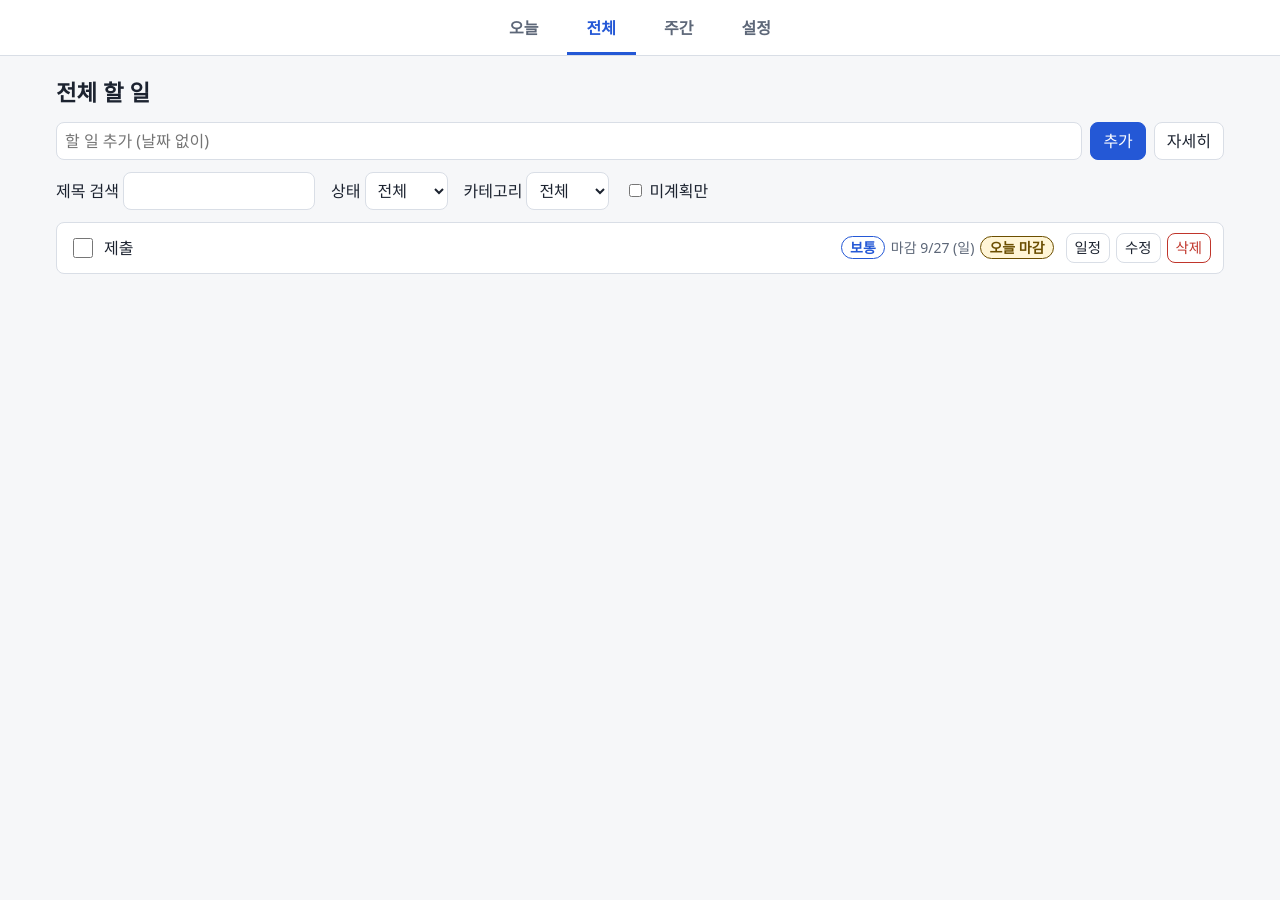
Test: 할 일 폼 › 수정 폼에서 마감일을 해제하면 마감 배지가 사라지고 null로 PATCH한다 (AC27)
Expected: the text "오늘 마감" is shown, left=980, top=236, right=1054, bottom=259
Click the button with aria-label "제출 수정" at (1138, 248), box left=1116, top=233, right=1160, bottom=263
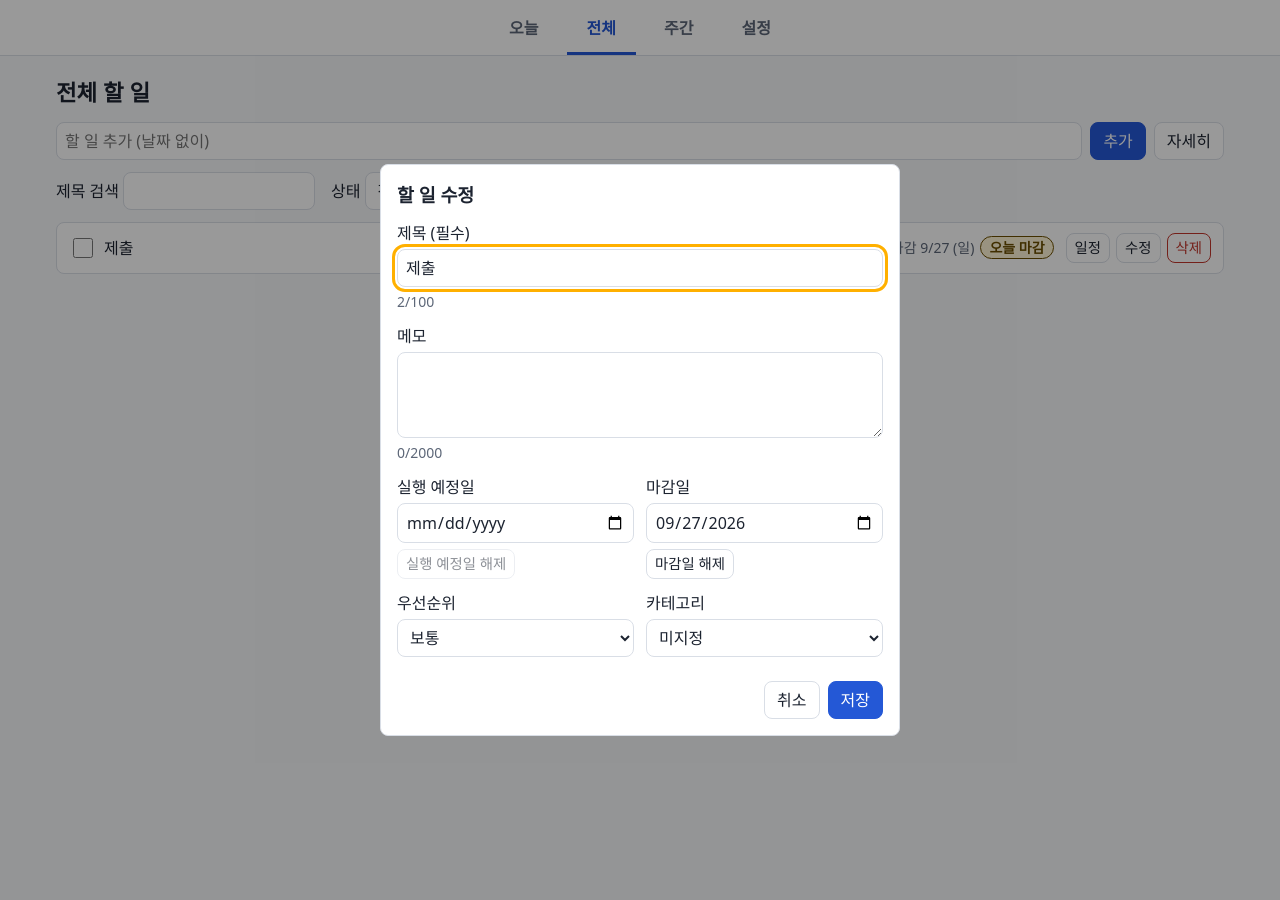
Click the button "마감일 해제" at (690, 564), box left=646, top=549, right=734, bottom=579
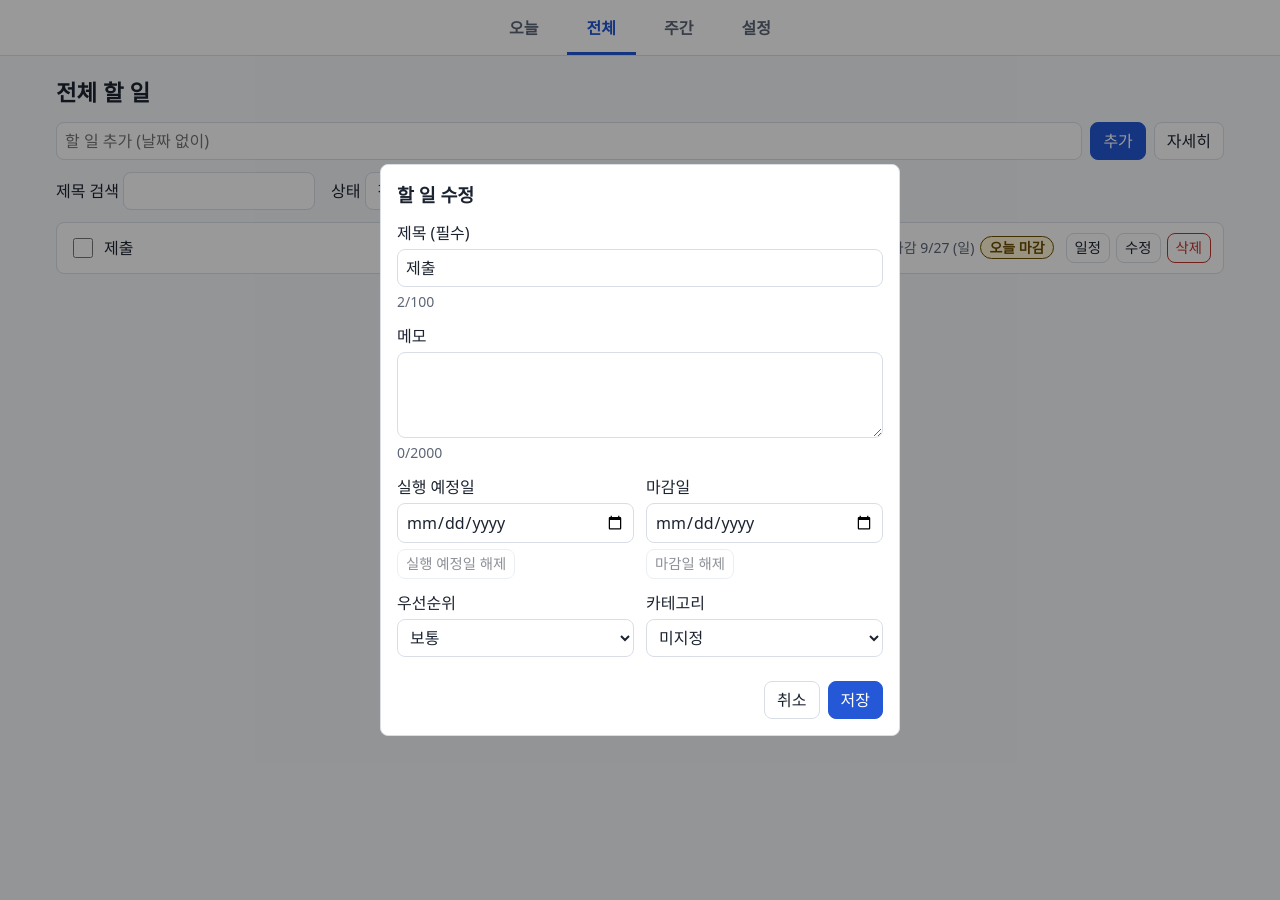
Click the button "저장" at (855, 700), box left=828, top=681, right=883, bottom=719
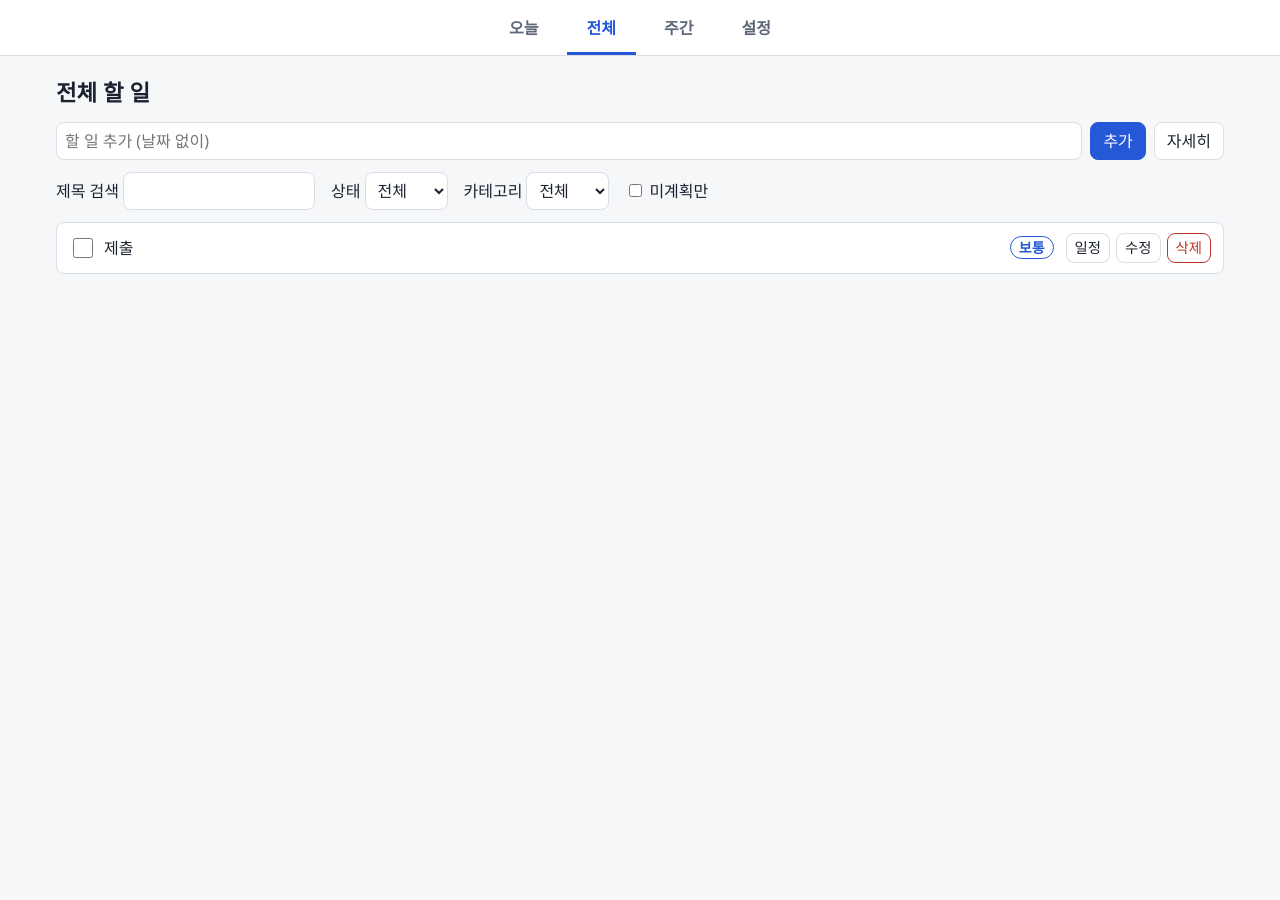
Expected: the text "오늘 마감" is gone
